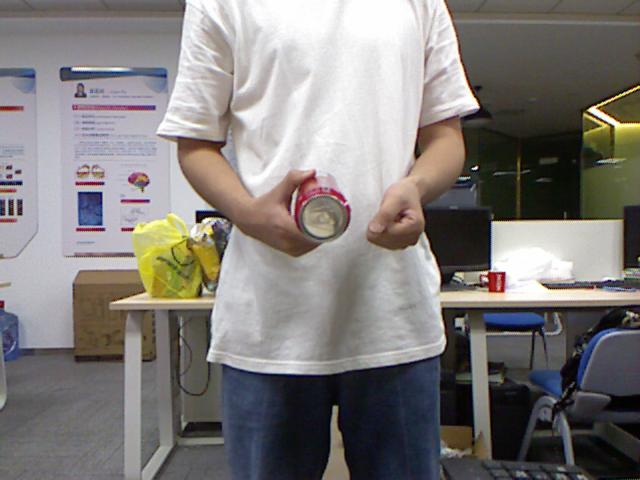metal: (291, 176, 350, 243)
